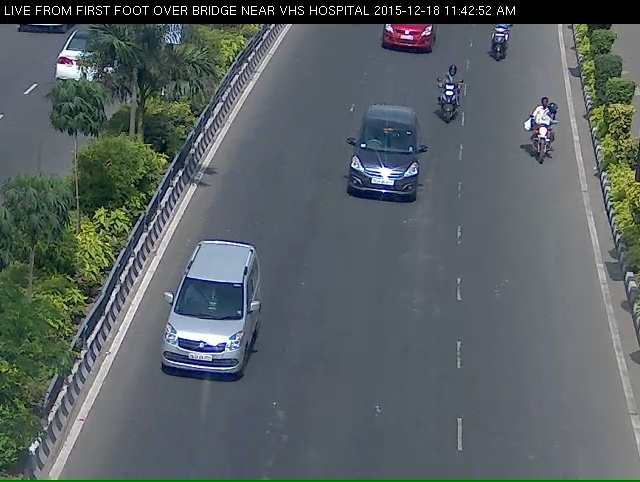Car: (135, 277, 283, 419), (331, 124, 428, 232), (371, 24, 446, 58)
Person: (528, 99, 566, 187), (431, 76, 466, 145), (485, 20, 516, 65)
